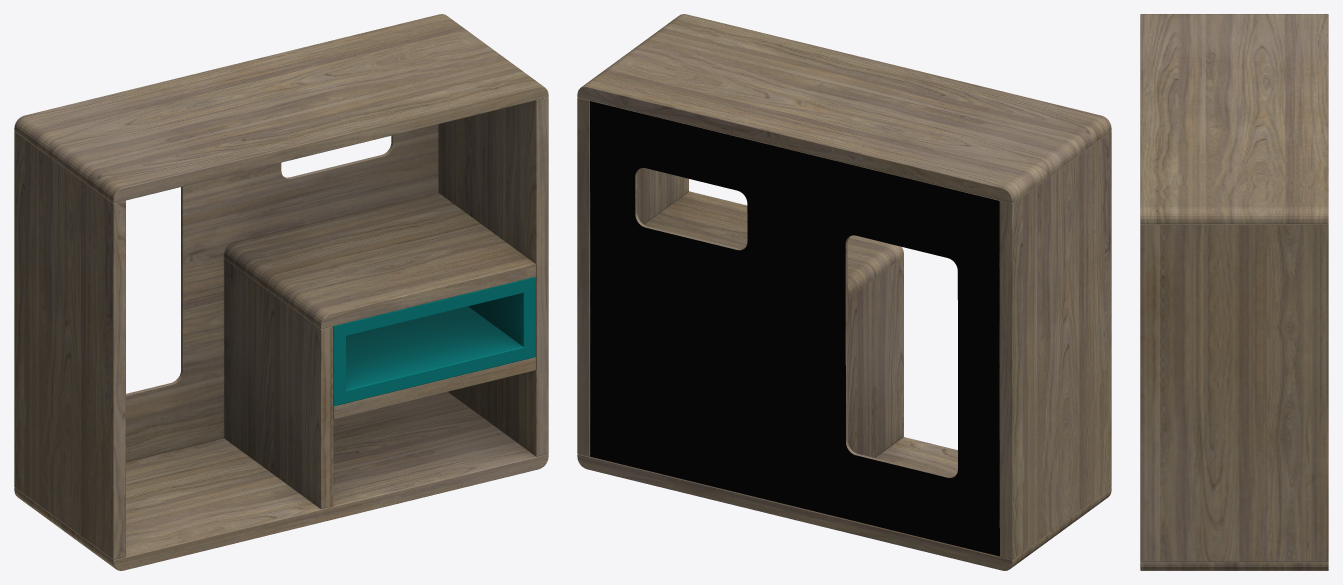
File: aqua.glb
3 renders of one model, left to right at view 1: azimuth 30°, elevation 25°; view 2: azimuth 150°, elevation 25°; view 3: azimuth 270°, elevation 25°, orthographic. The views are drawn at different scales.
Visible parts, largest first — view 1: black.009; view 2: black.009; view 3: black.009.
Part boxes in pixels (x1,y1,x2,y2): black.009: (14,14,548,570); black.009: (577,14,1111,570); black.009: (1140,14,1328,570).
Bounding box in the file's own units: 1.32 × 1.11 × 0.52.
1 material, 1 textured.
